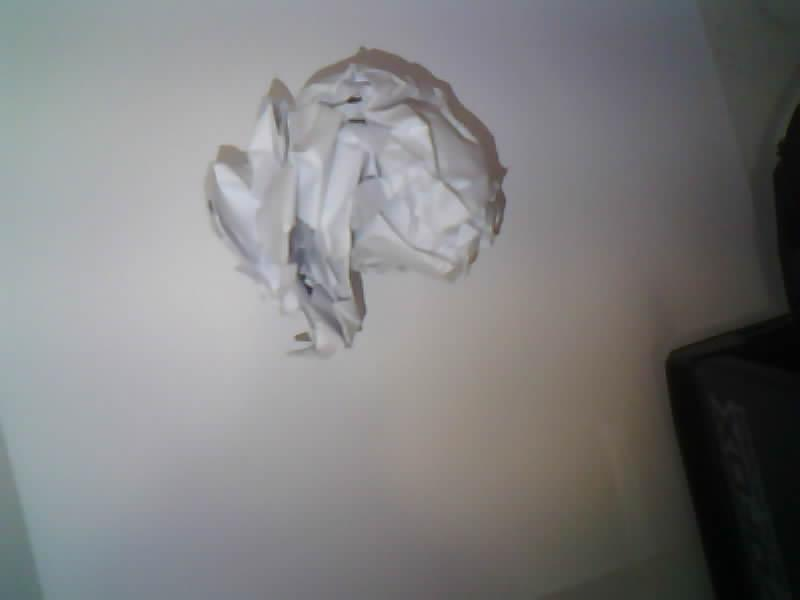biodegradable: (207, 50, 503, 354)
